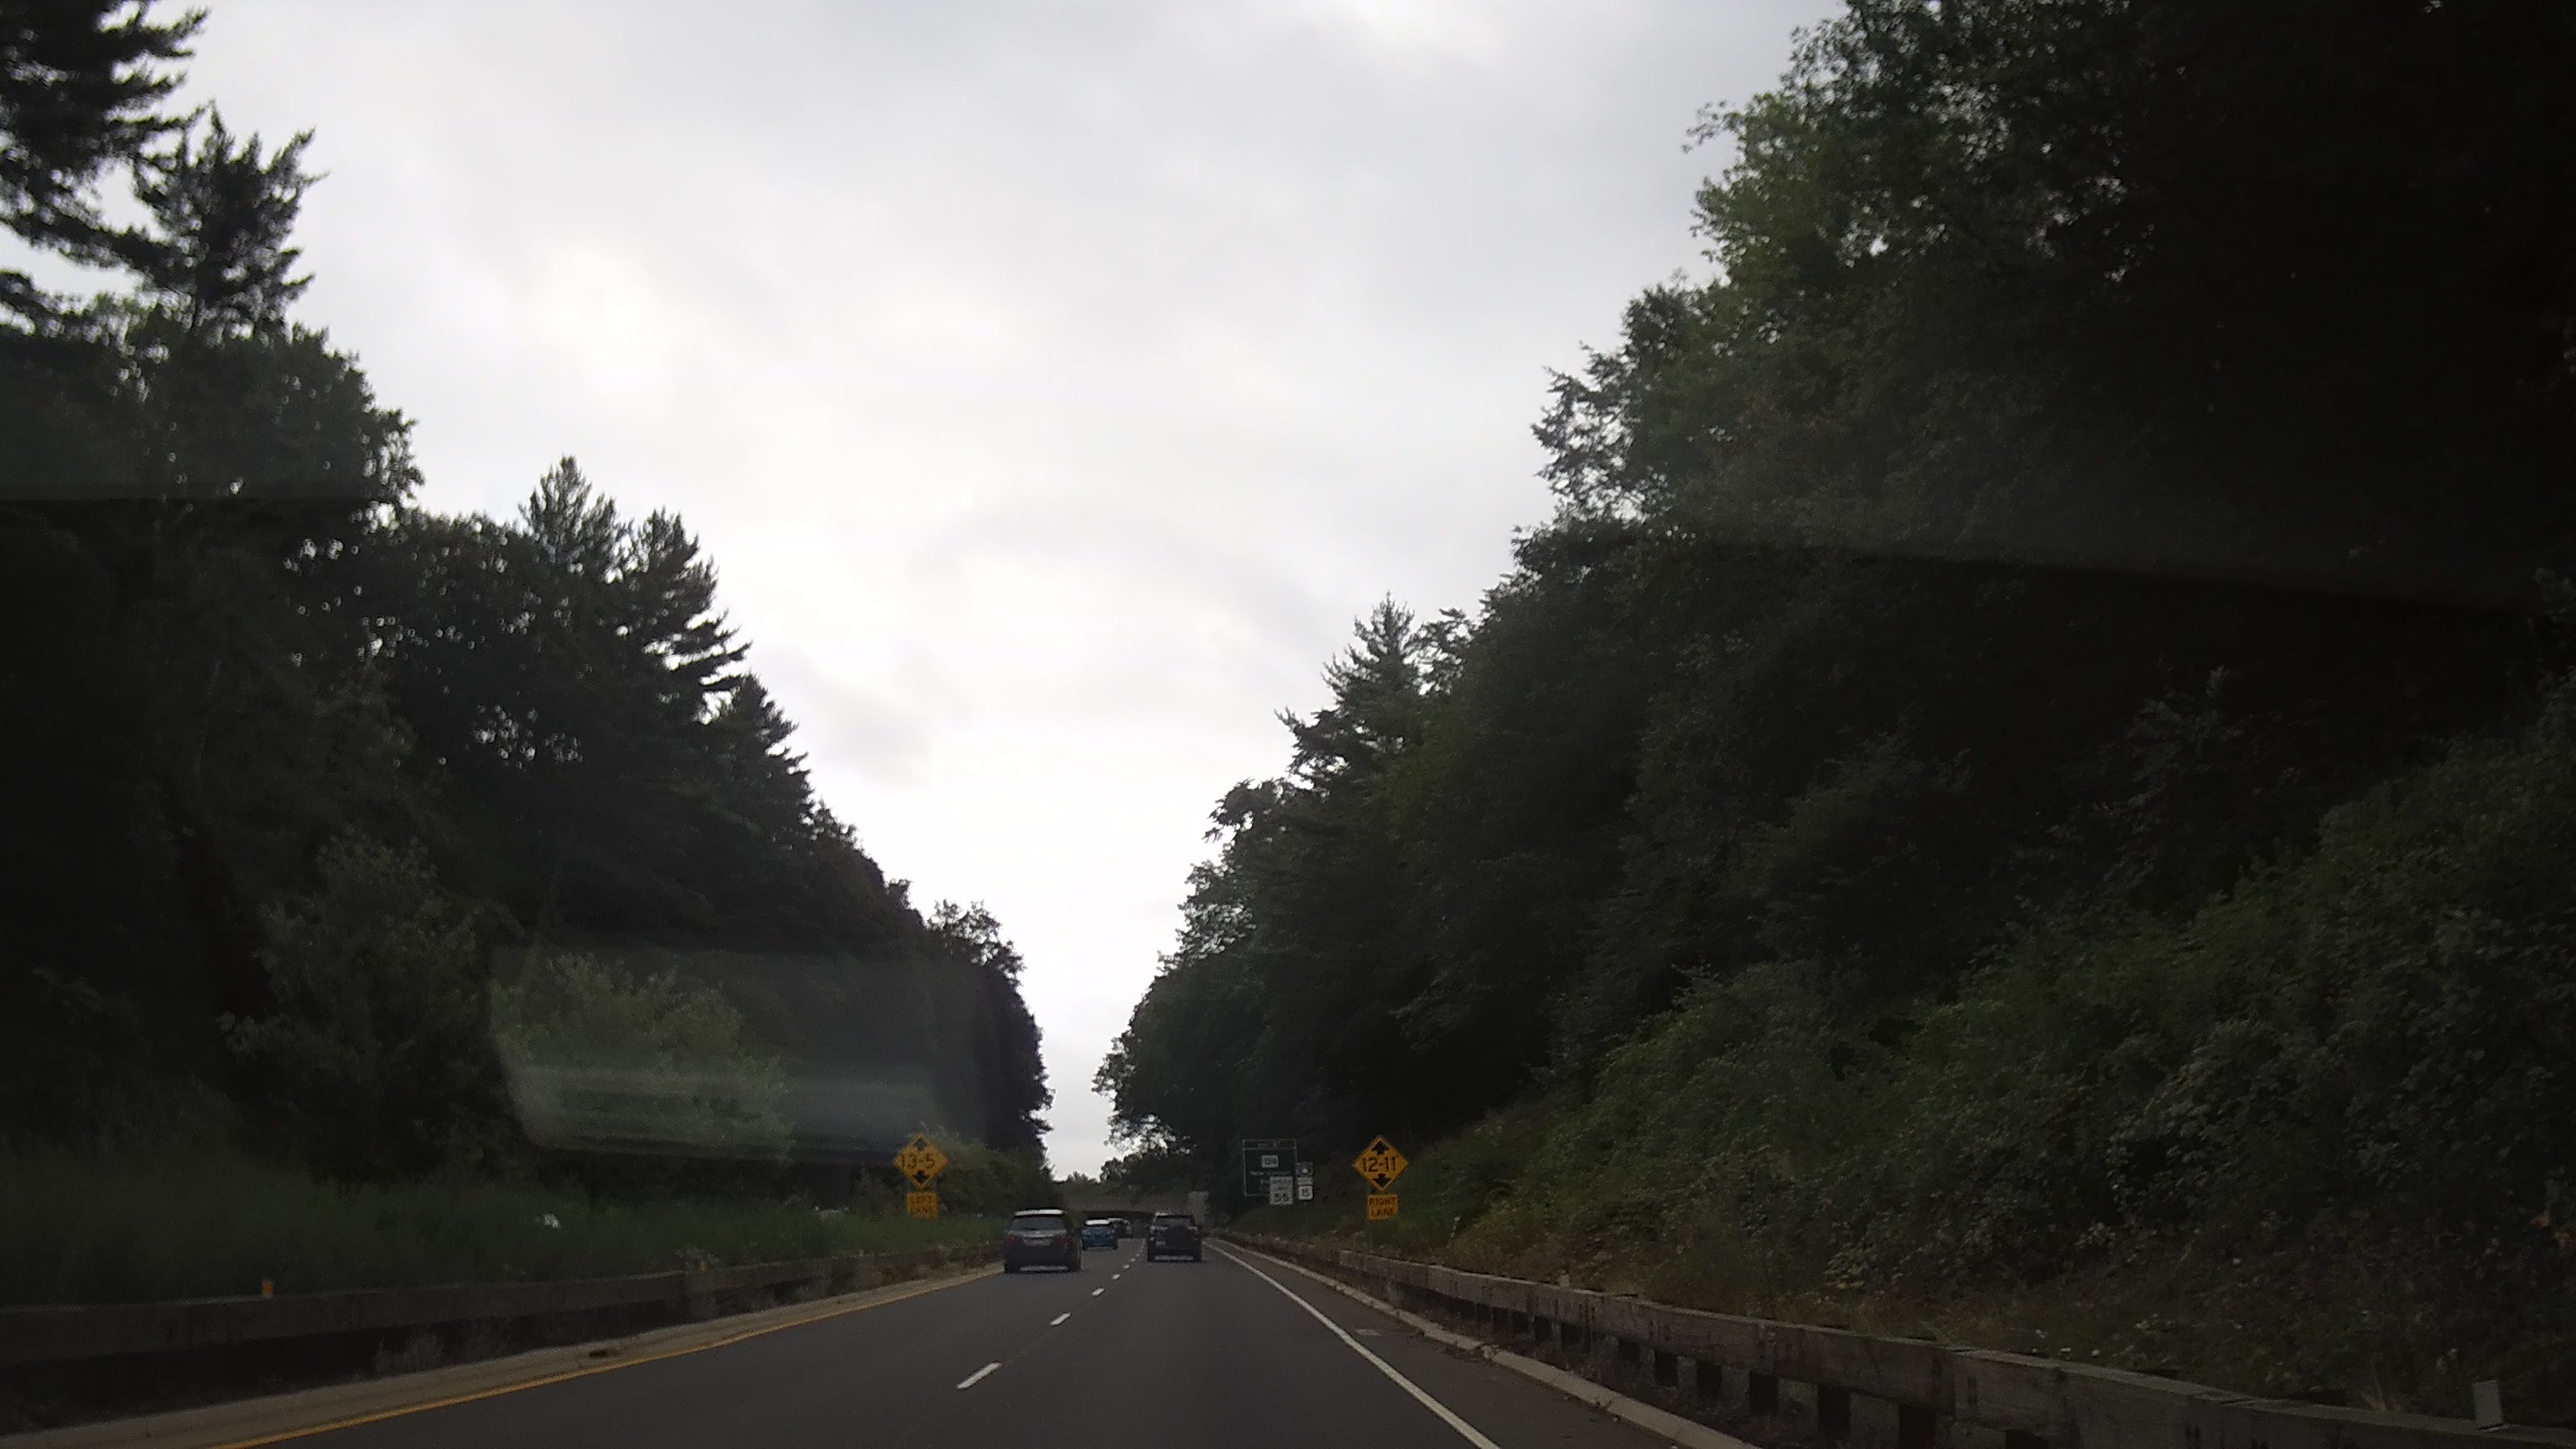low-clearance-sign: (1352, 1132, 1410, 1194), (892, 1131, 950, 1191)
